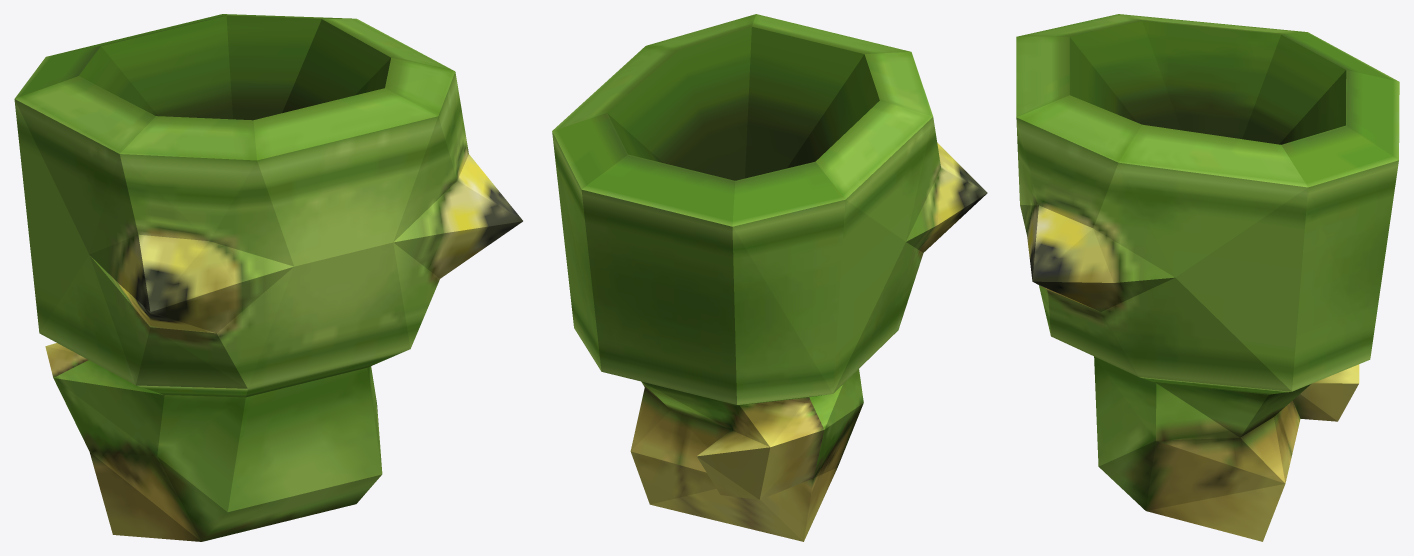
Rendered from Panda_wormGauntlet_right.obj.
3 views of the same model, side by side, from view 1: azimuth 30°, elevation 25°; view 2: azimuth 150°, elevation 25°; view 3: azimuth 270°, elevation 25° (orthographic). The views are drawn at different scales.
Visible parts, largest first — view 1: Panda_wormGauntlet_tri [right]; view 2: Panda_wormGauntlet_tri [right]; view 3: Panda_wormGauntlet_tri [right].
Part boxes in pixels (x1,y1,x2,y2): Panda_wormGauntlet_tri [right]: (14, 14, 522, 541); Panda_wormGauntlet_tri [right]: (552, 14, 987, 541); Panda_wormGauntlet_tri [right]: (1016, 14, 1399, 541).
Bounding box in the file's own units: 0.1516 × 0.1878 × 0.1479.
1 material, 1 textured.
